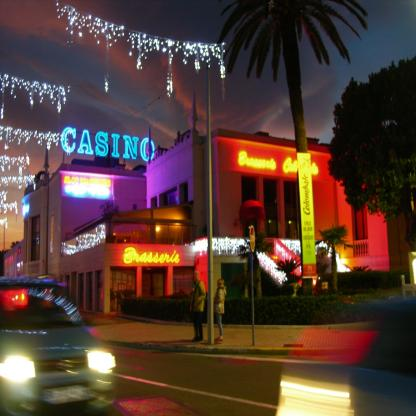Car: (1, 276, 118, 416)
